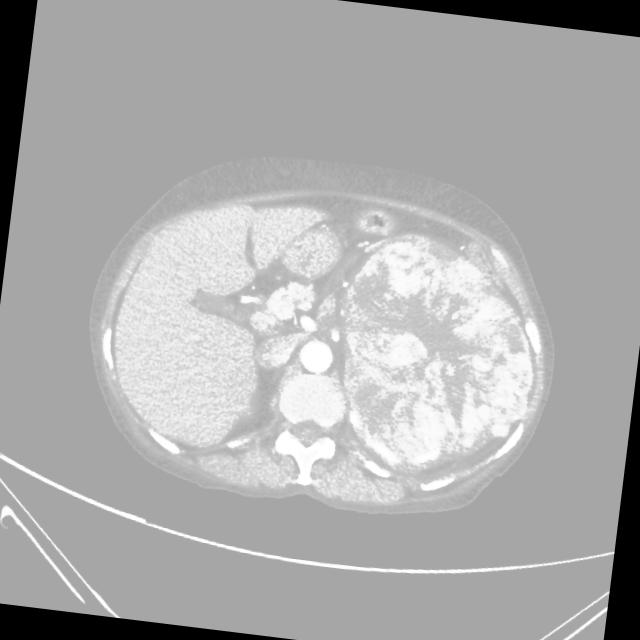TUMOR: (302, 216, 640, 474)
